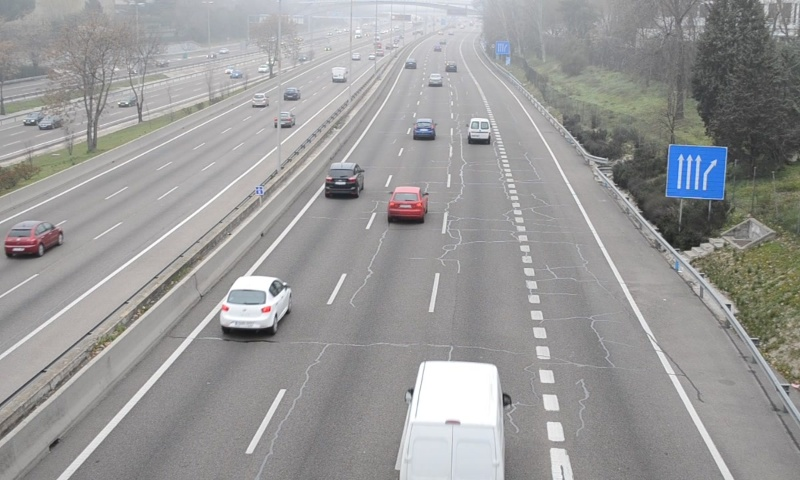car: (220, 276, 290, 328), (388, 186, 426, 220), (325, 162, 362, 196), (412, 118, 436, 140), (427, 72, 442, 87)
van: (394, 361, 504, 480), (468, 116, 491, 143)
